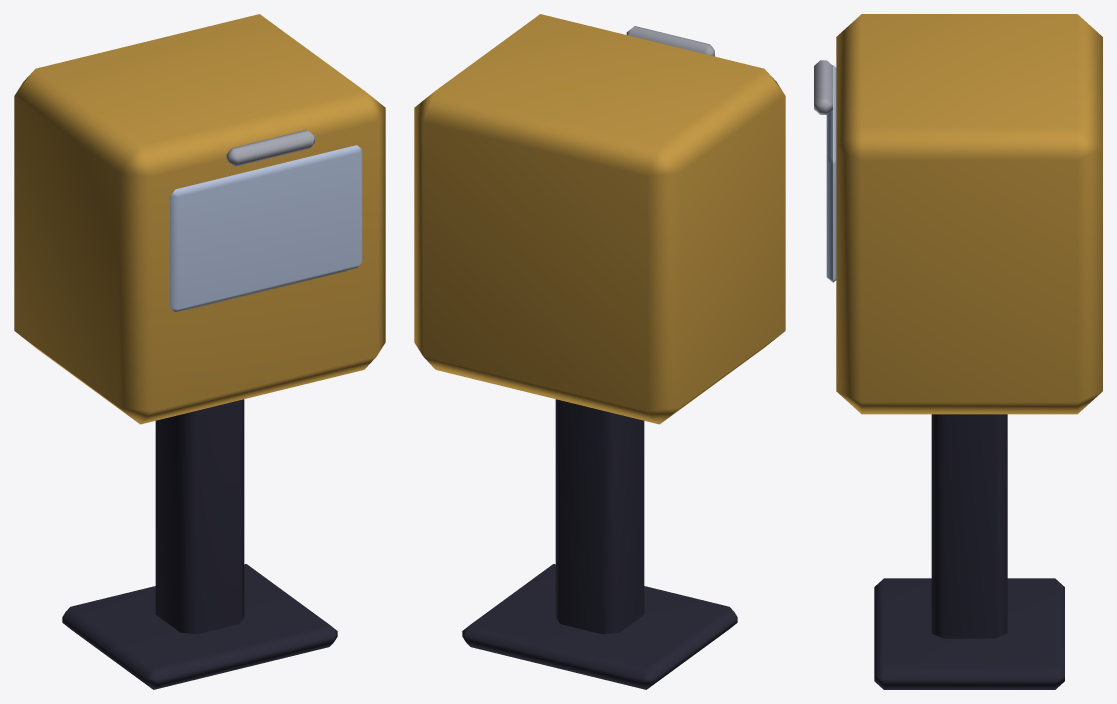
File: newspaper_box.glb
3 views of the same model, side by side, from view 1: azimuth 30°, elevation 25°; view 2: azimuth 150°, elevation 25°; view 3: azimuth 270°, elevation 25° (orthographic). The views are drawn at different scales.
Visible parts, largest first — view 1: newspaper_box; view 2: newspaper_box; view 3: newspaper_box.
Boxes of the visible parts, <box> form: newspaper_box: <box>14,14,385,689</box>; newspaper_box: <box>414,14,785,689</box>; newspaper_box: <box>814,14,1102,689</box>.
Bounding box in the file's own units: 0.5 × 1 × 0.455.
